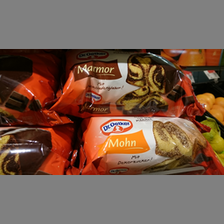cake: (52, 50, 201, 116), (67, 118, 221, 173)
